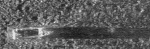ship: (9, 24, 56, 43)
